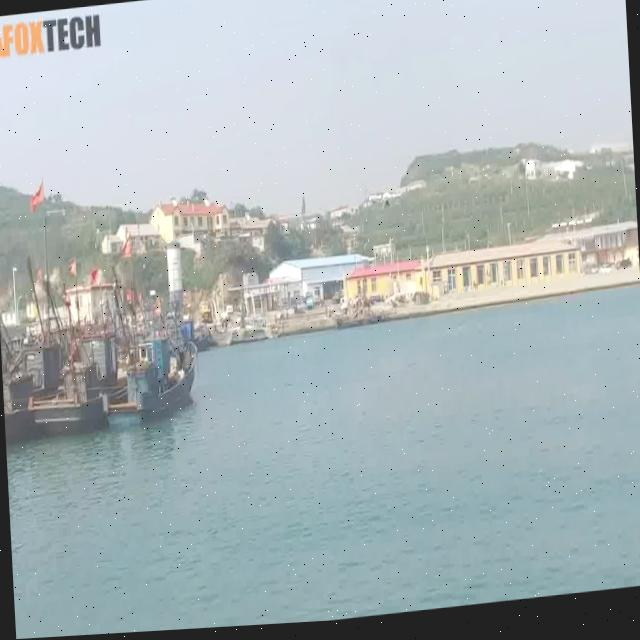drone: (348, 159, 432, 246)
